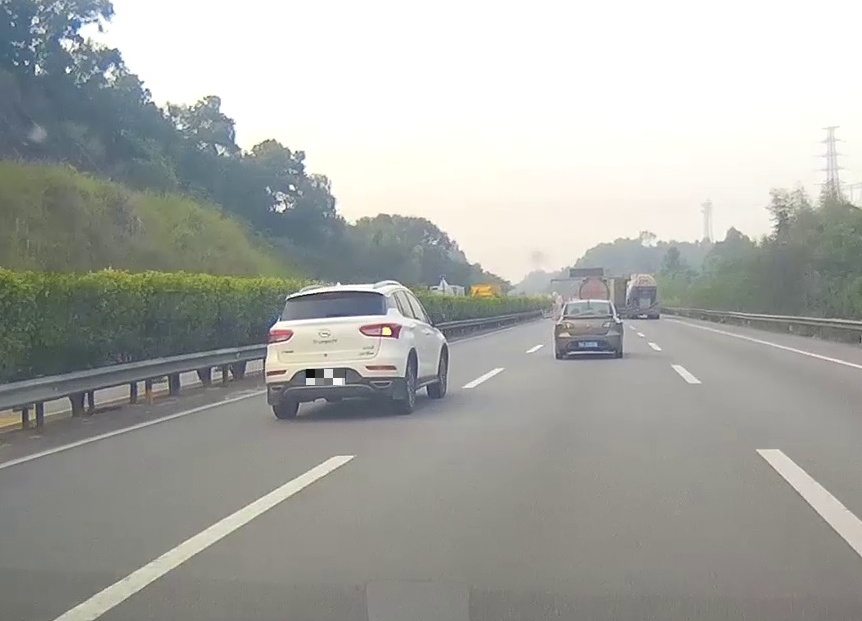L_light: (267, 329, 294, 345), (562, 322, 575, 329)
R_light: (358, 323, 402, 340), (601, 321, 616, 328)
T_light: (318, 291, 341, 295), (584, 303, 594, 304)
day-no: (554, 300, 623, 359)
day-right: (265, 284, 404, 420)
plate_1: (306, 369, 345, 385)
